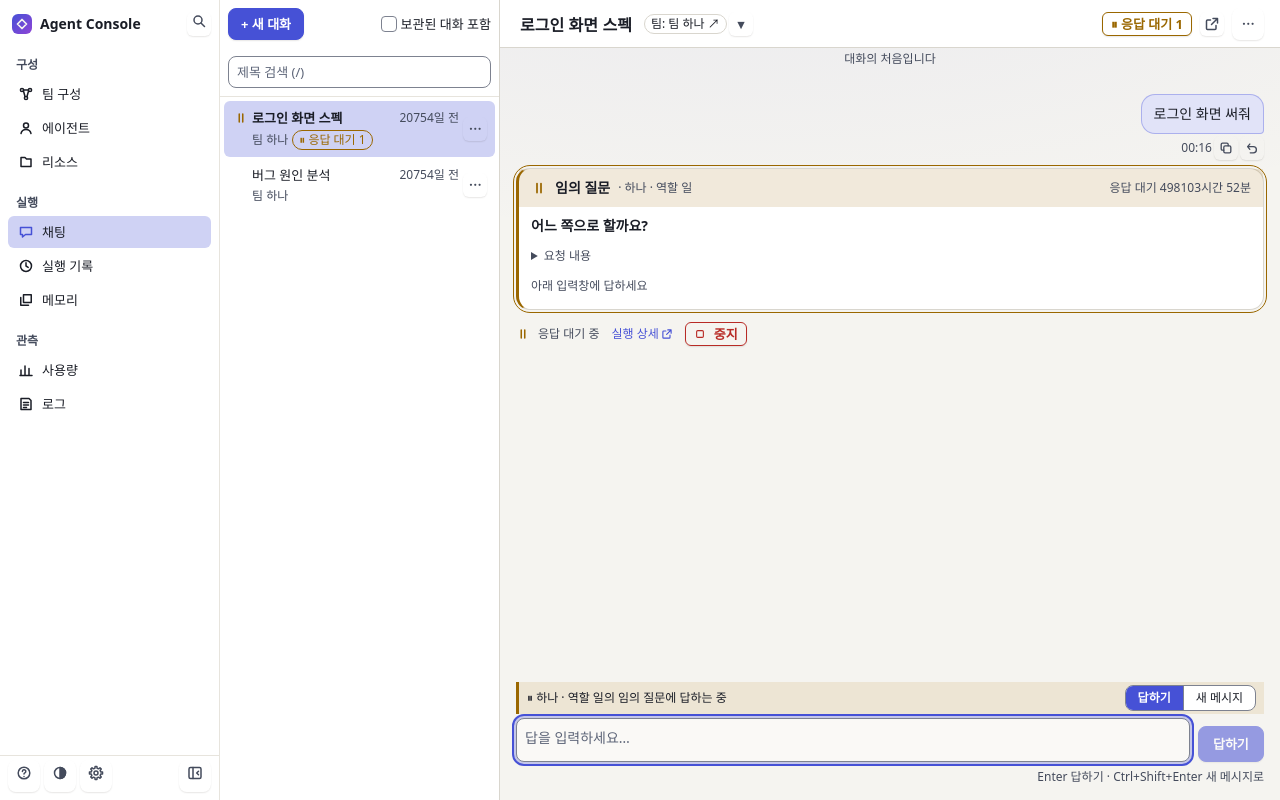
Test: 되묻기 답 입력칸은 한 곳 (5.7R.40) › AC8 전환: 대기가 늘면 입력창 내용은 유지되고 토스트가 한 번, 하나 남으면 입력창 쪽으로 돌아온다
Expected: the element with test id "answer-strip" is shown, [516,682,1264,714]
Type "쓰던 글" into the text box named "메시지 입력" at (853, 740), box [516,718,1190,762]
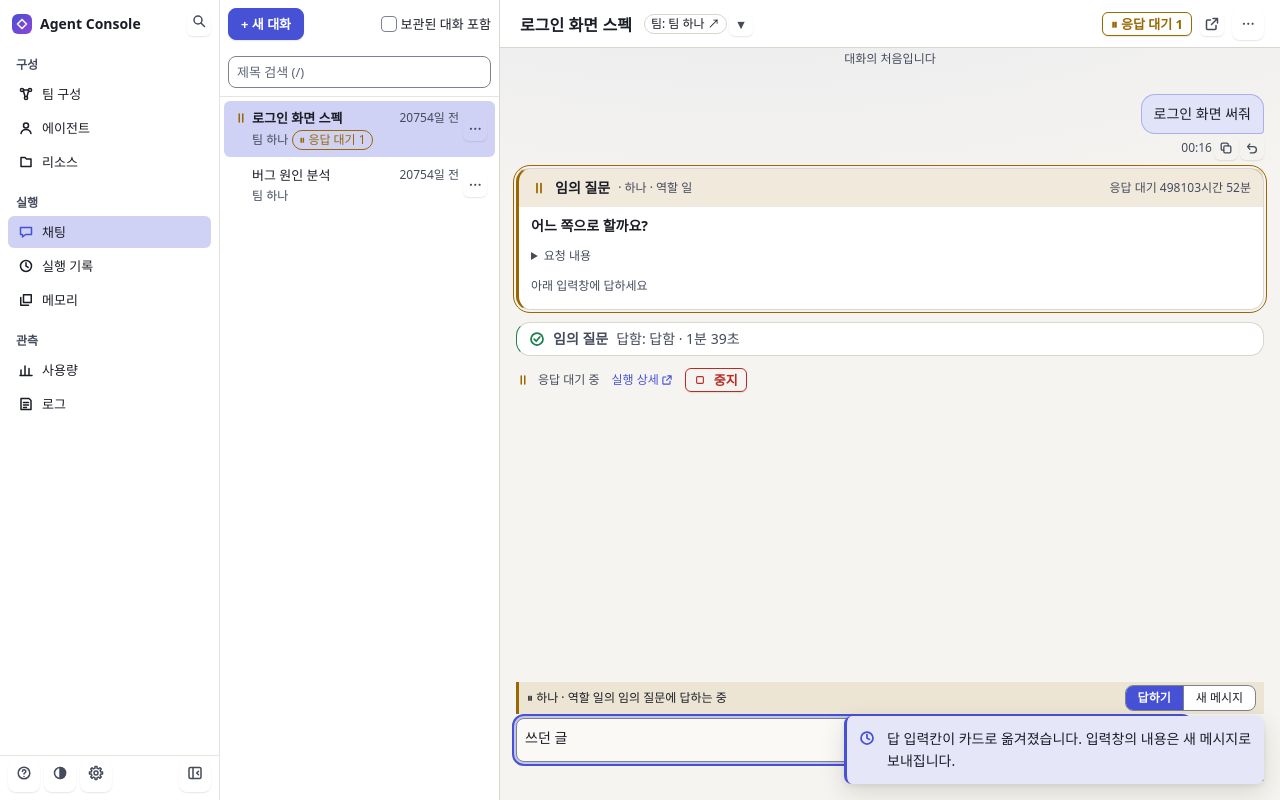
Expected: the element with test id "answer-strip" is shown, [516,682,1264,714]
Expected: the text "답 입력칸이 카드로 옮겨졌습니다. 입력창의 내용은 새 메시지로 보내집니다." is shown once, [887,728,1252,772]
